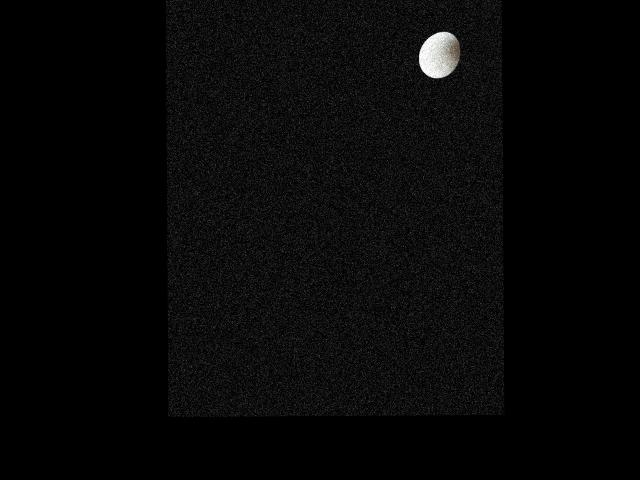egg: (418, 31, 460, 78)
